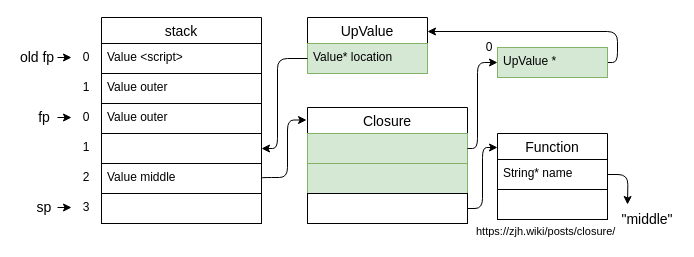
The diagram is 694 pixels wide and 257 high, and some of its shapes have lost their labels. Here are the shapes that lost their labels. From the top down, the centre of each, then its label:
the point at 181,148: Value cnt : 0
the point at 387,148: UpValue** up_values_array
the point at 387,178: int up_values_cnt : 1
the point at 387,208: Function* function
the point at 552,204: ... code...consts...
